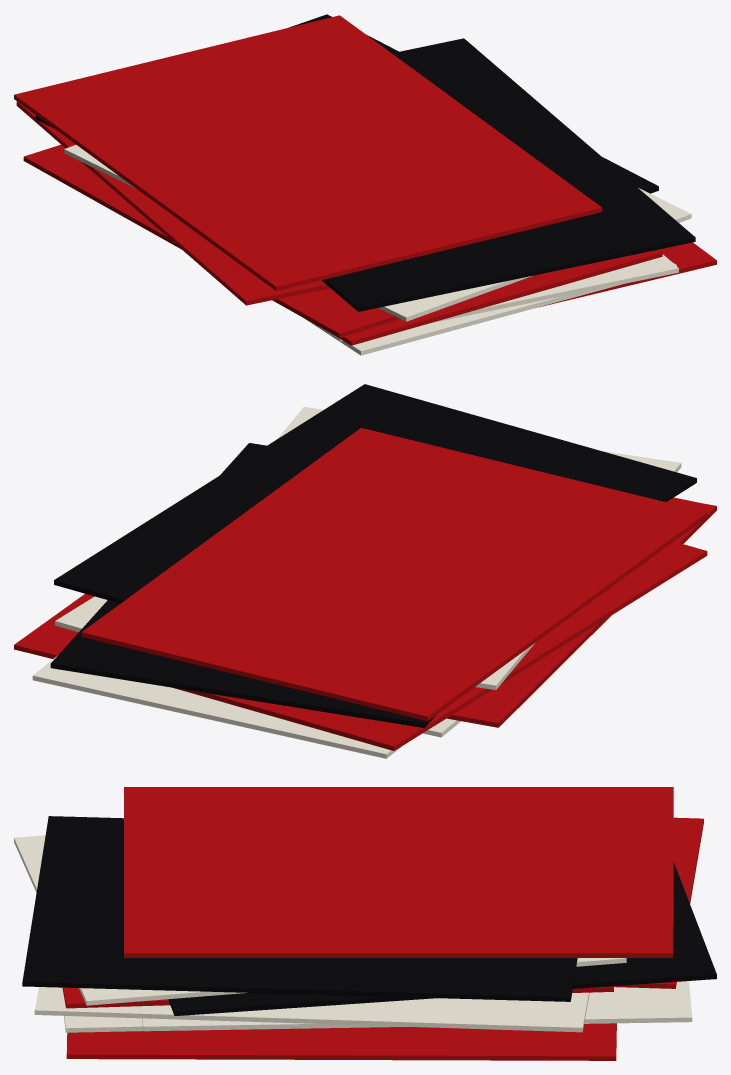
Rendered from Item_OR_Cards_08.glb.
3 renders of one model, top to bottom at view 1: azimuth 30°, elevation 25°; view 2: azimuth 150°, elevation 25°; view 3: azimuth 270°, elevation 25°, orthographic. The views are drawn at different scales.
Visible parts, largest first — view 1: Item_OR_Cards_08; view 2: Item_OR_Cards_08; view 3: Item_OR_Cards_08.
Boxes of the visible parts, bbox=[...] form: Item_OR_Cards_08: bbox=[14, 14, 716, 355]; Item_OR_Cards_08: bbox=[14, 384, 716, 758]; Item_OR_Cards_08: bbox=[14, 787, 716, 1060].
Bounding box in the file's own units: 0.0861 × 0.0108 × 0.1126.
